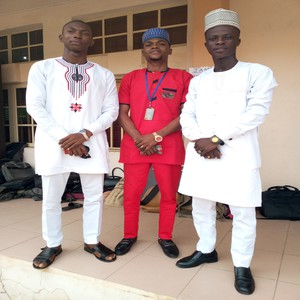Fulokoja_male_student: (25, 21, 118, 266), (185, 8, 256, 292), (119, 28, 181, 258)
